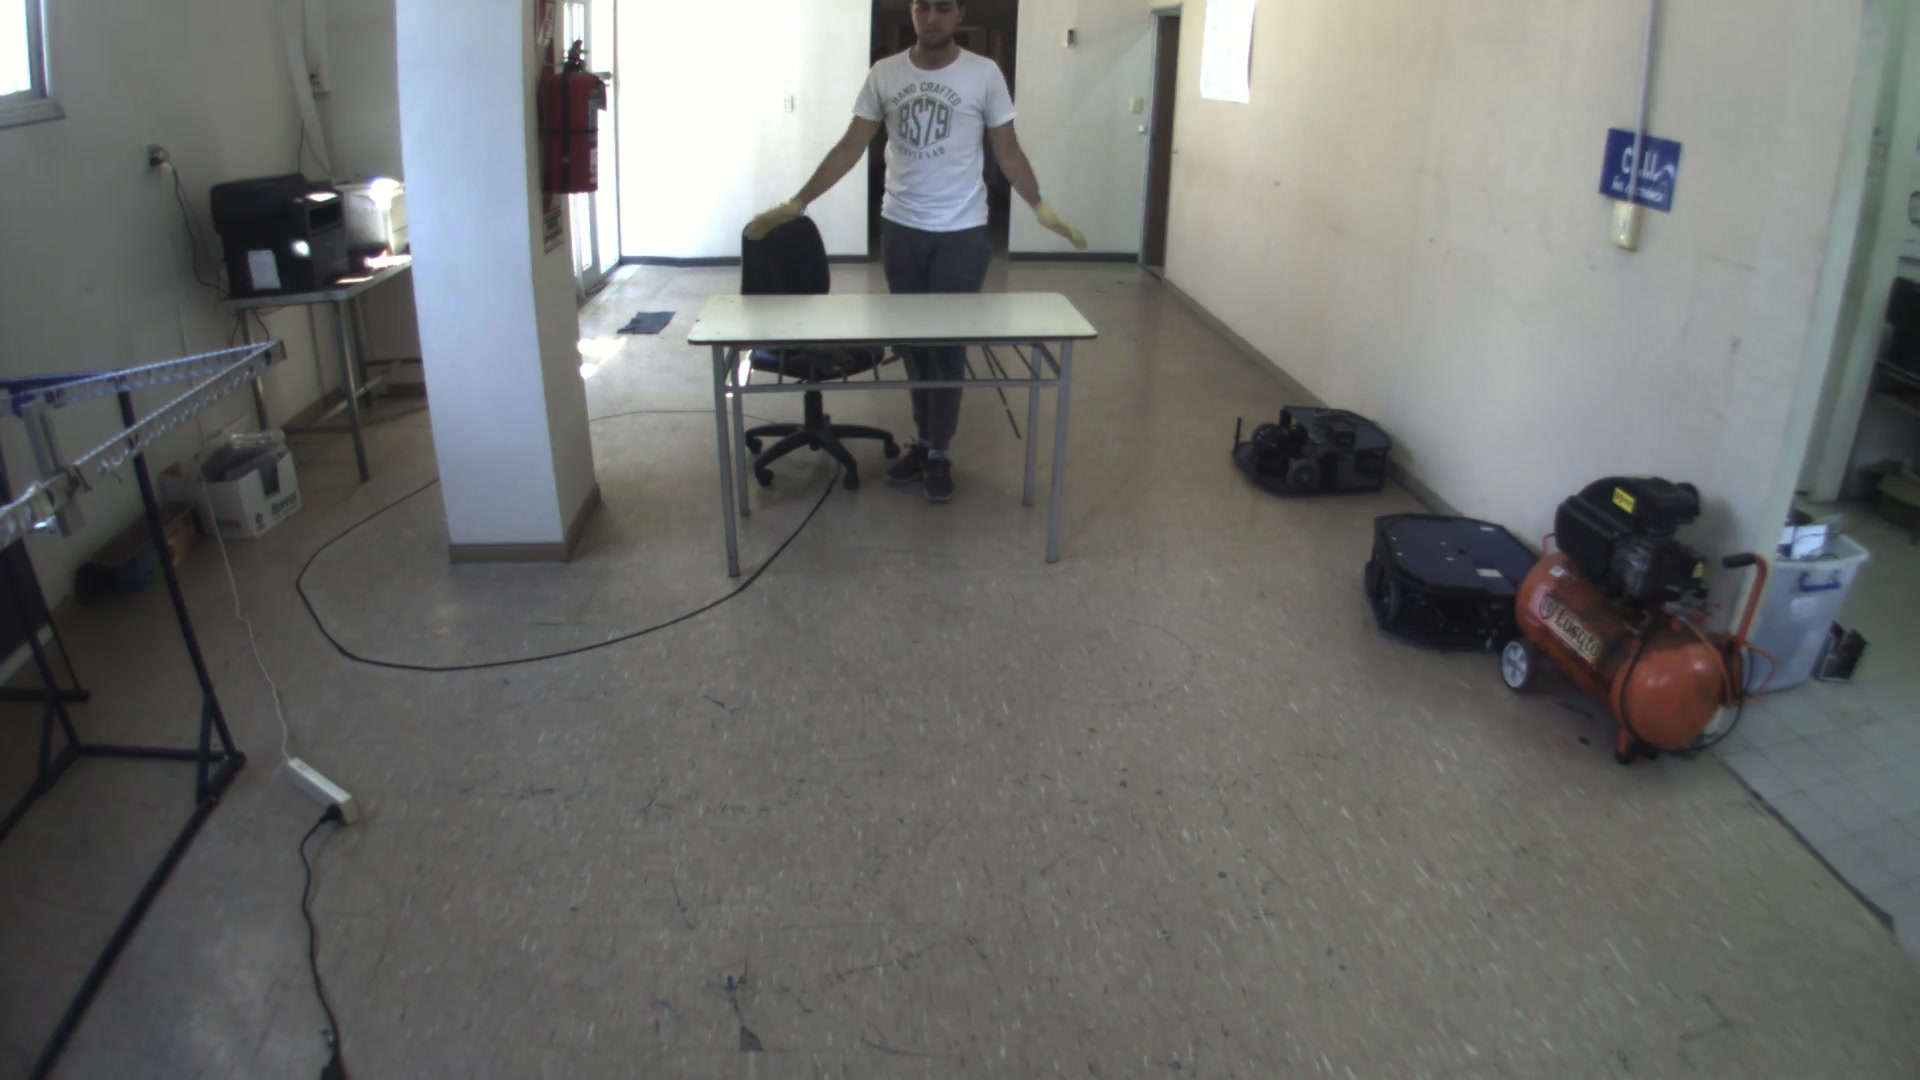hand: (1025, 199, 1093, 251), (736, 198, 815, 239)
